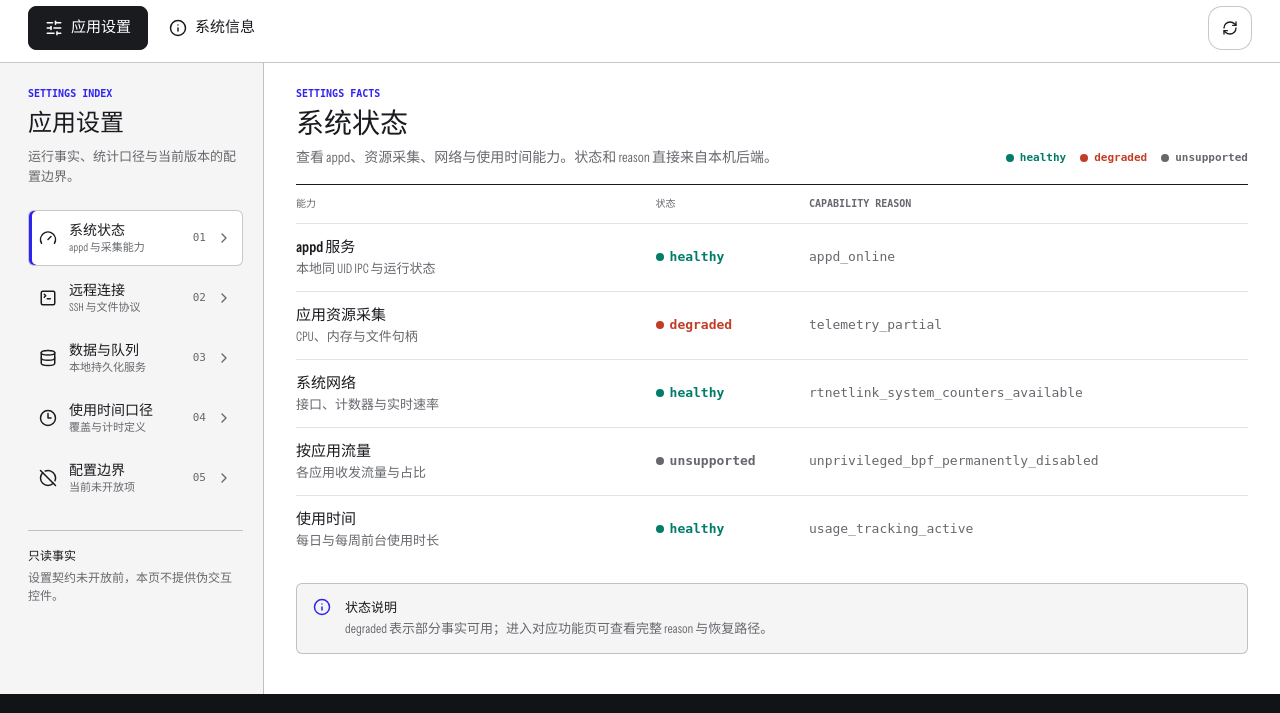
Test: SettingsView › shows six not-implemented configuration entries
This screenshot has width=1280, height=713.
Click the tab "配置边界 当前未开放项 05": (136, 478) [28,450,243,506]
(page scrolled)
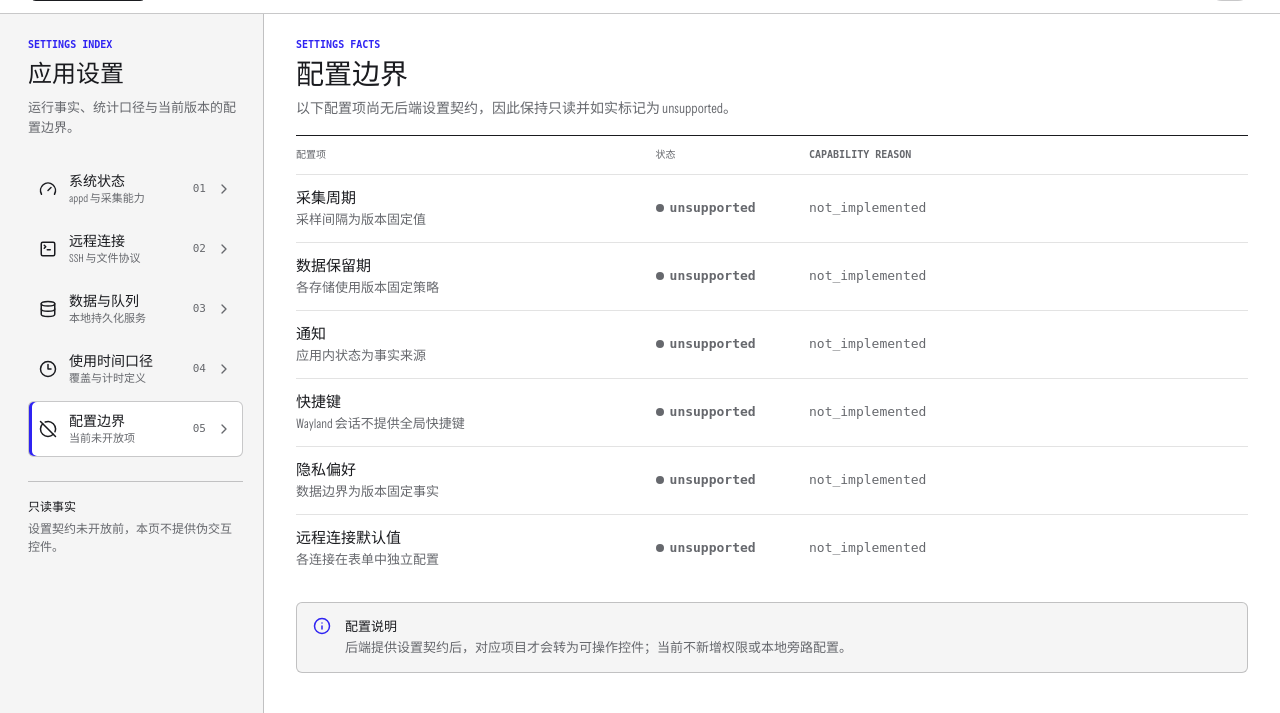
Result: the number of rows with class "settings-row" is 6 at [296,174,1248,242]; [296,242,1248,310]; [296,310,1248,378]; [296,378,1248,446]; [296,446,1248,514]; [296,514,1248,582]
Result: the text "采集周期" is shown at [296,188,356,207]
Result: the text "数据保留期" is shown at [296,256,371,275]
